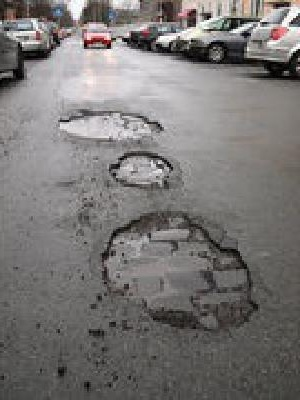pothole: (96, 205, 266, 338), (54, 108, 168, 142), (106, 151, 177, 190)
